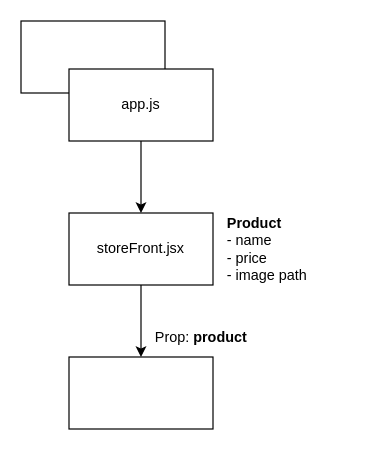
Some shapes in this 366 by 450 pixel diagram are drawn without their labels. Here are the shapes that lost their labels. From the top down, the centre of each, then its label:
the point at 92,56: index.js
the point at 140,392: shoppingCart.jsx
